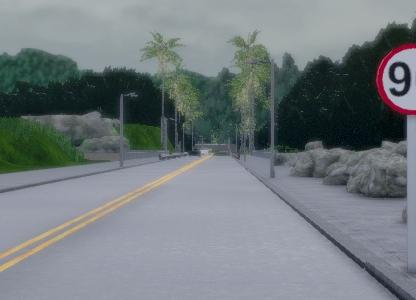Speed_90: (373, 42, 416, 117)
